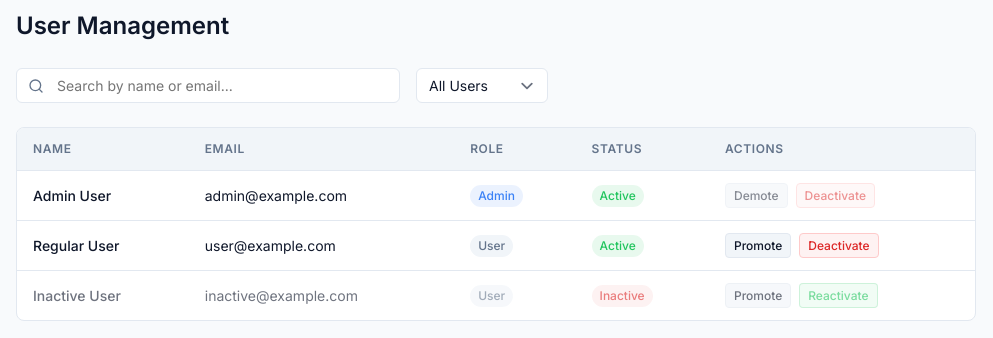
Scenario: UserManagement › filters users by status - active only
Expected: the text "Admin User" is shown, [17,170,189,220]
Select "Active Only" in the dropdown named "Filter by status" at (482, 86), box [416,68,548,103]
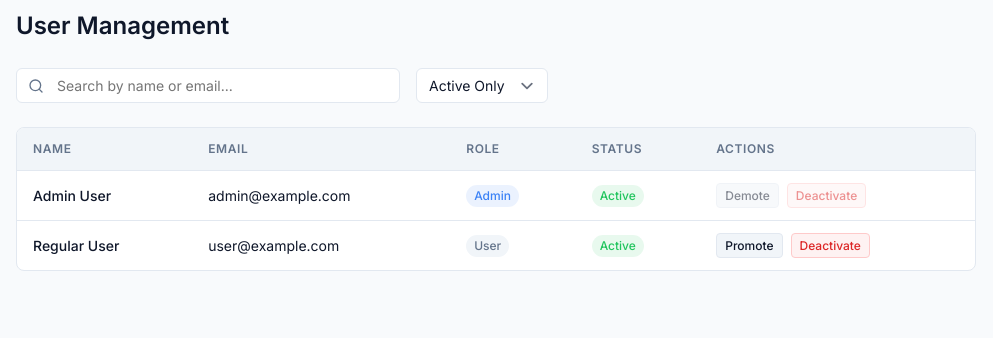
Expected: the text "Admin User" is shown, [17,170,192,220]
Expected: the text "Inactive User" is gone
